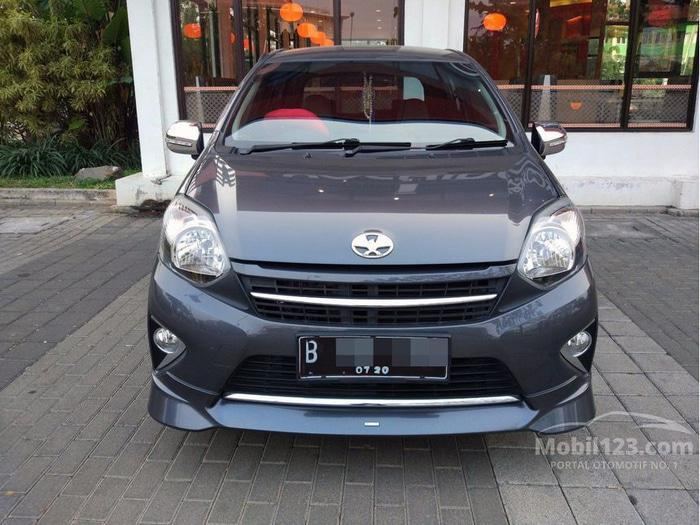mobil: (125, 33, 610, 455)
plat: (289, 330, 459, 391)
